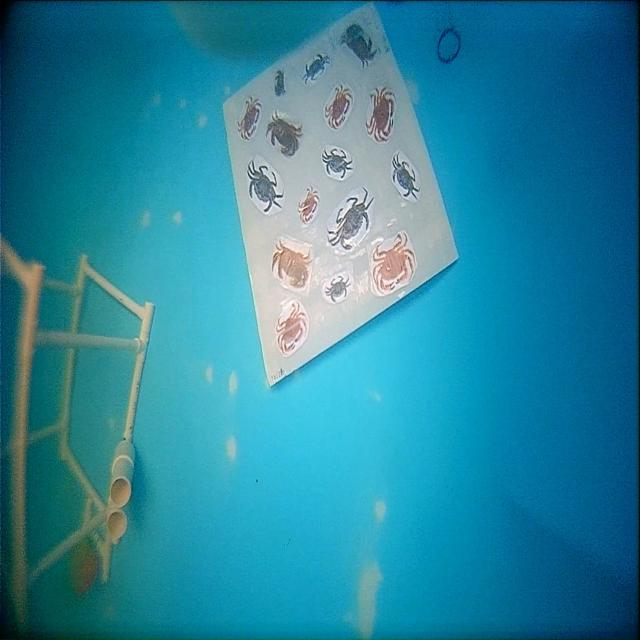GreenCrab: (328, 189, 373, 248), (247, 160, 283, 213), (322, 148, 352, 178), (325, 276, 349, 302)
